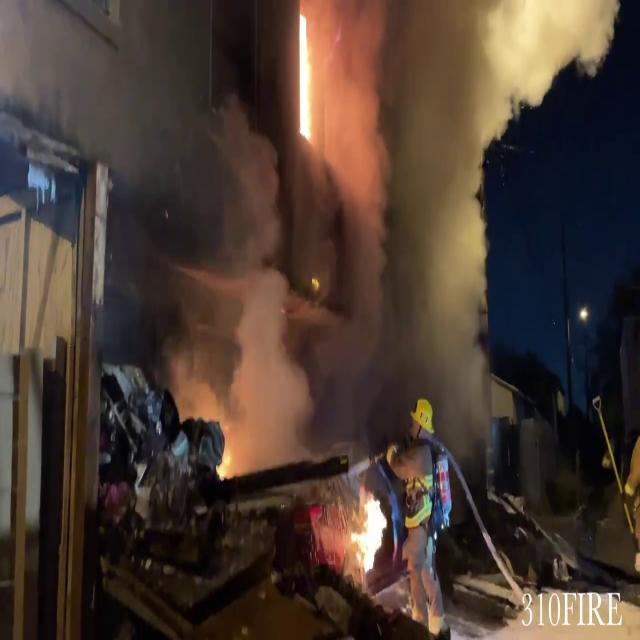Fire: (353, 492, 391, 581), (296, 0, 322, 129)
Smoke: (322, 0, 514, 395), (139, 96, 324, 462)
